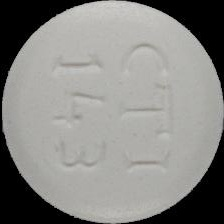63187-345: (0, 0, 224, 224)
